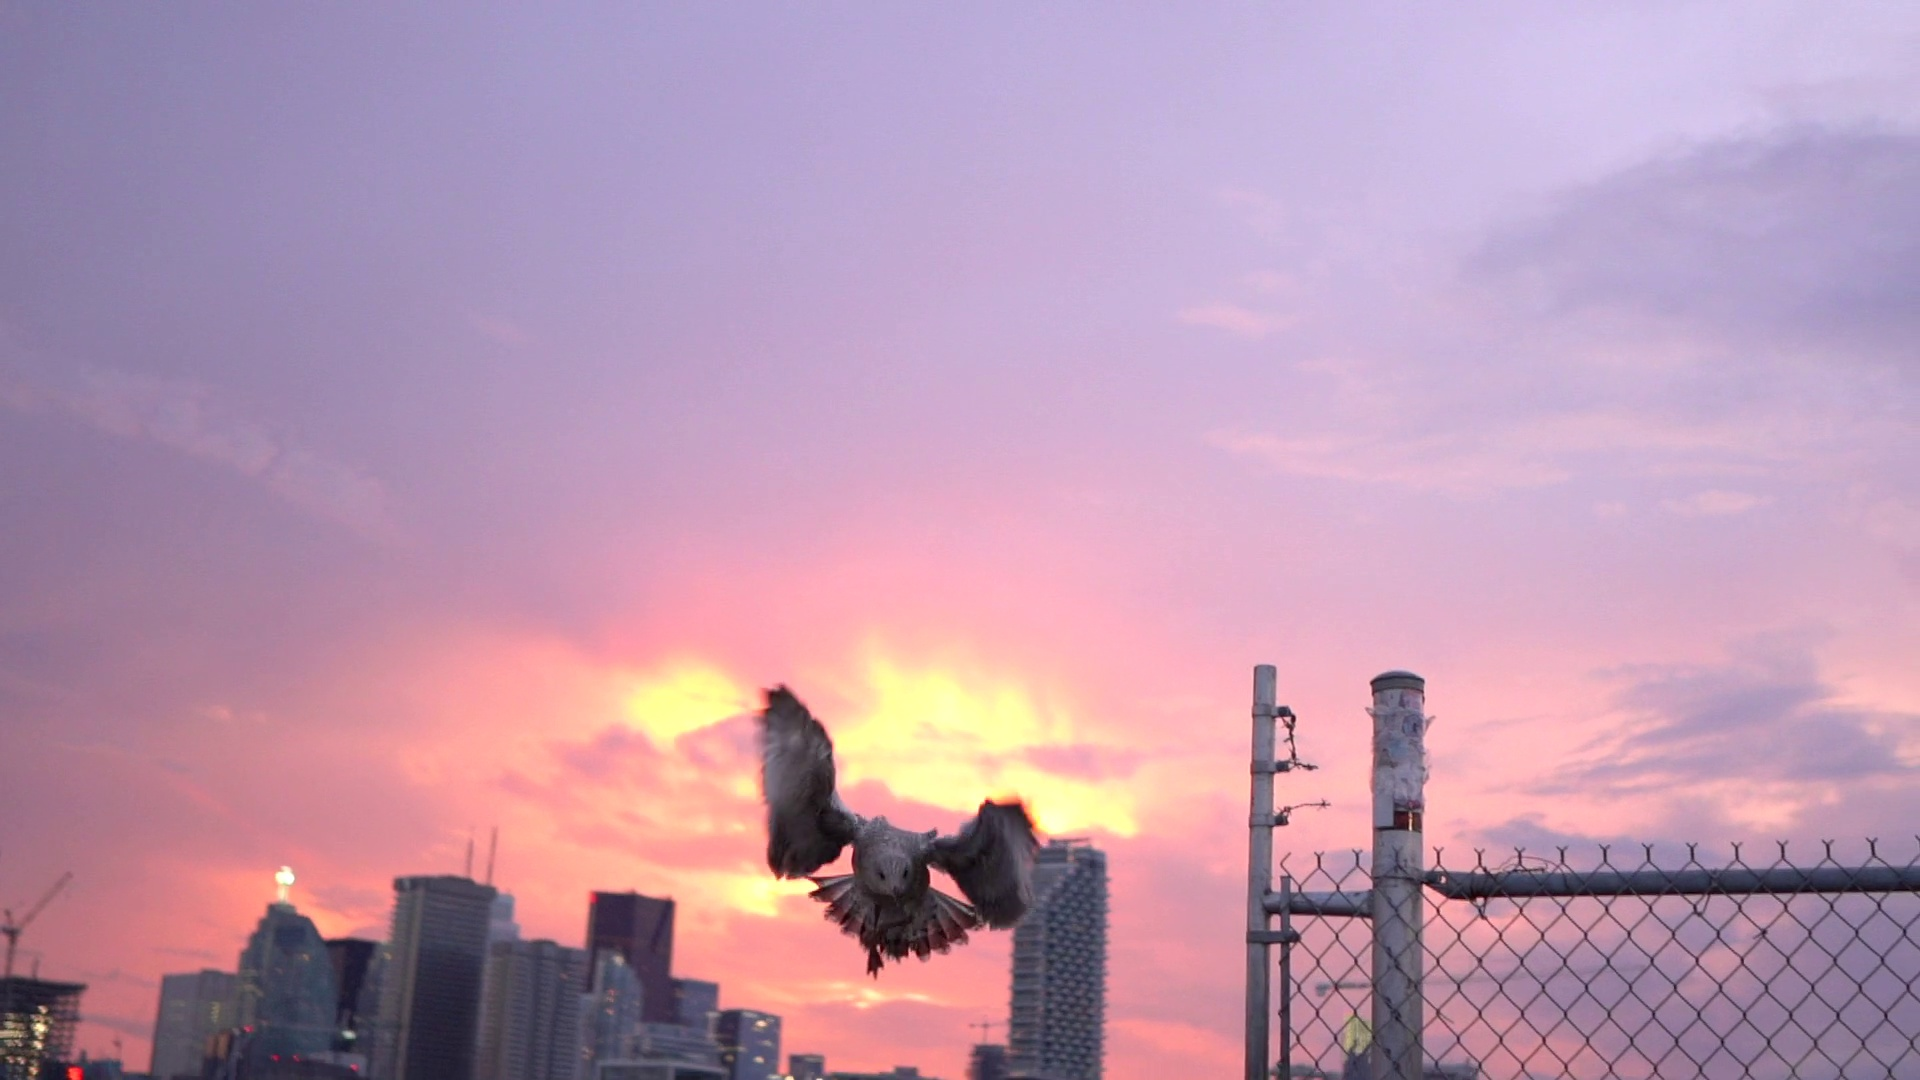bird: (746, 680, 1042, 980)
